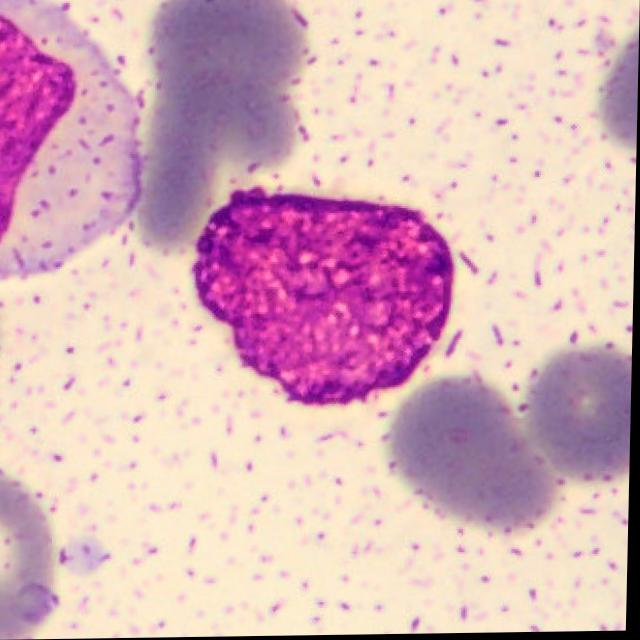Restos celulares: (197, 188, 457, 407)
